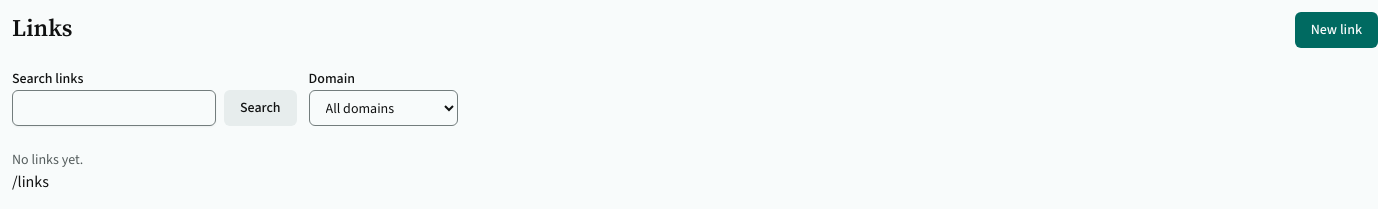
Test: the link list › searches by what was typed, and keeps the search in the address
Type "50% off" into the search field labelled "Search links" at (114, 108), box top-left (12, 90), bottom-right (216, 126)
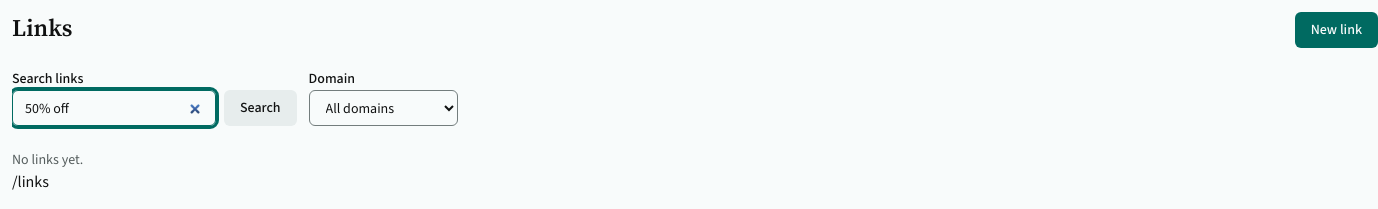
Click the button "Search" at (260, 108), box top-left (224, 90), bottom-right (297, 126)
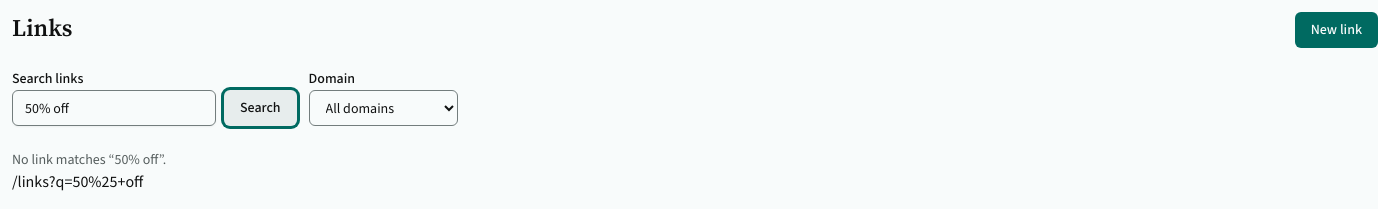
Check: the text named "address" reads "/links?q=50%25+off", box top-left (12, 171), bottom-right (143, 192)
